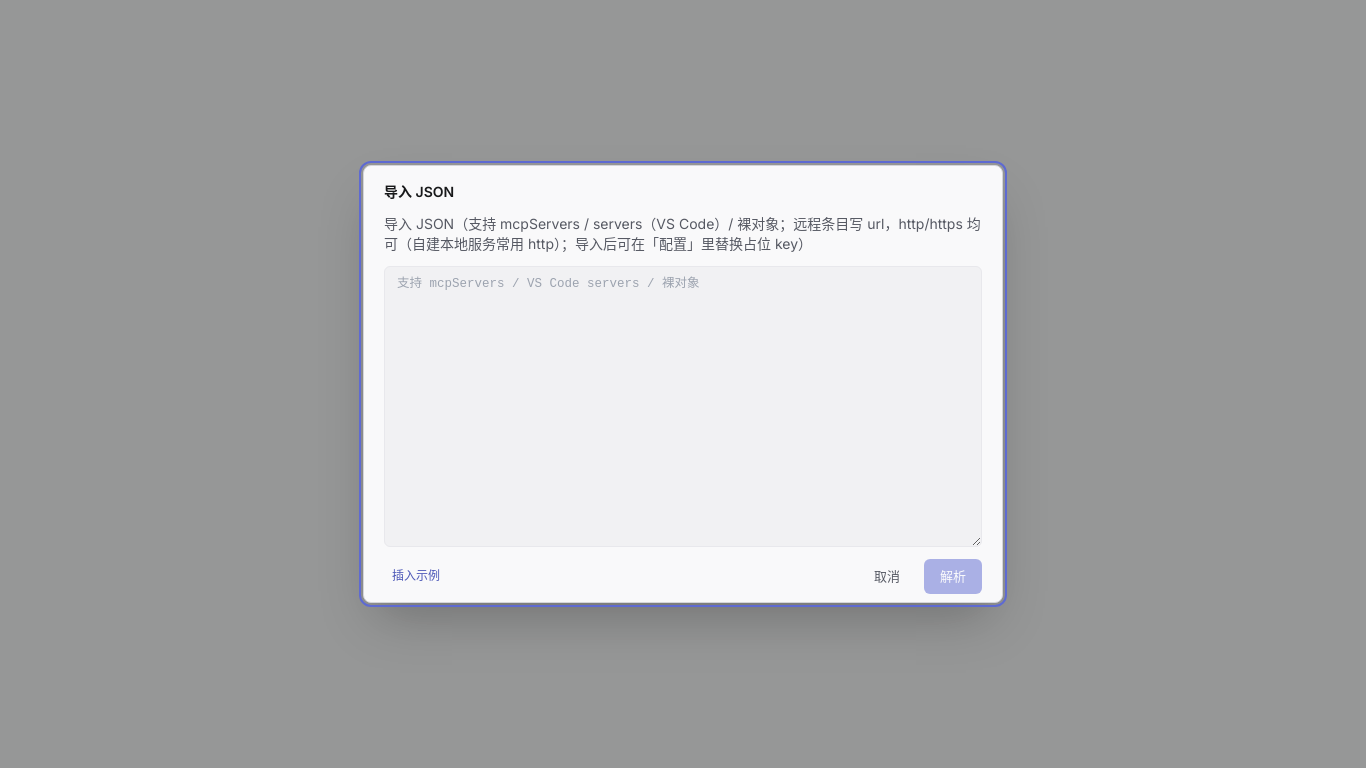
Test: McpJsonPasteDialog › 非法 JSON 解析错误内联展示且不触发注册
Type "not json" into the text box labelled "导入 JSON" at (683, 406), box [384,266,982,546]
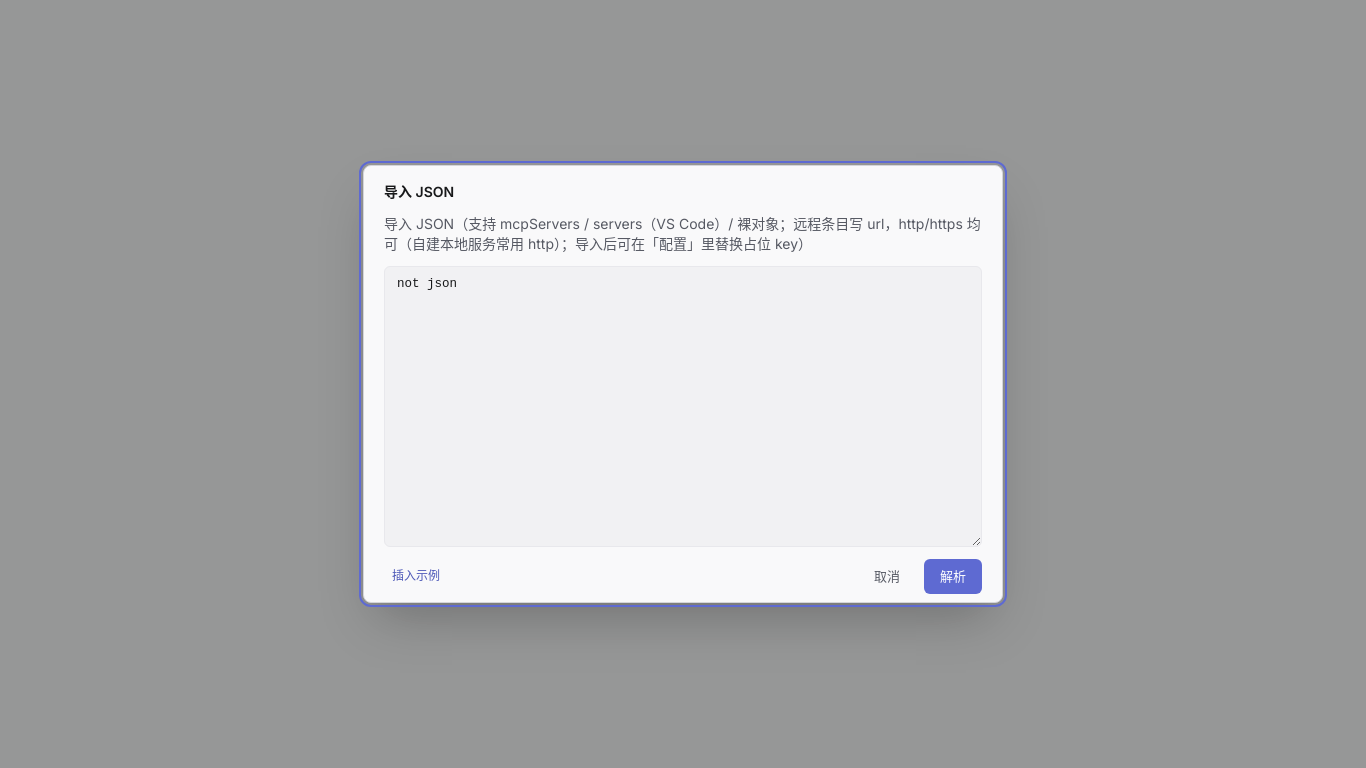
Click the button "解析" at (953, 576), box [924,558,982,594]
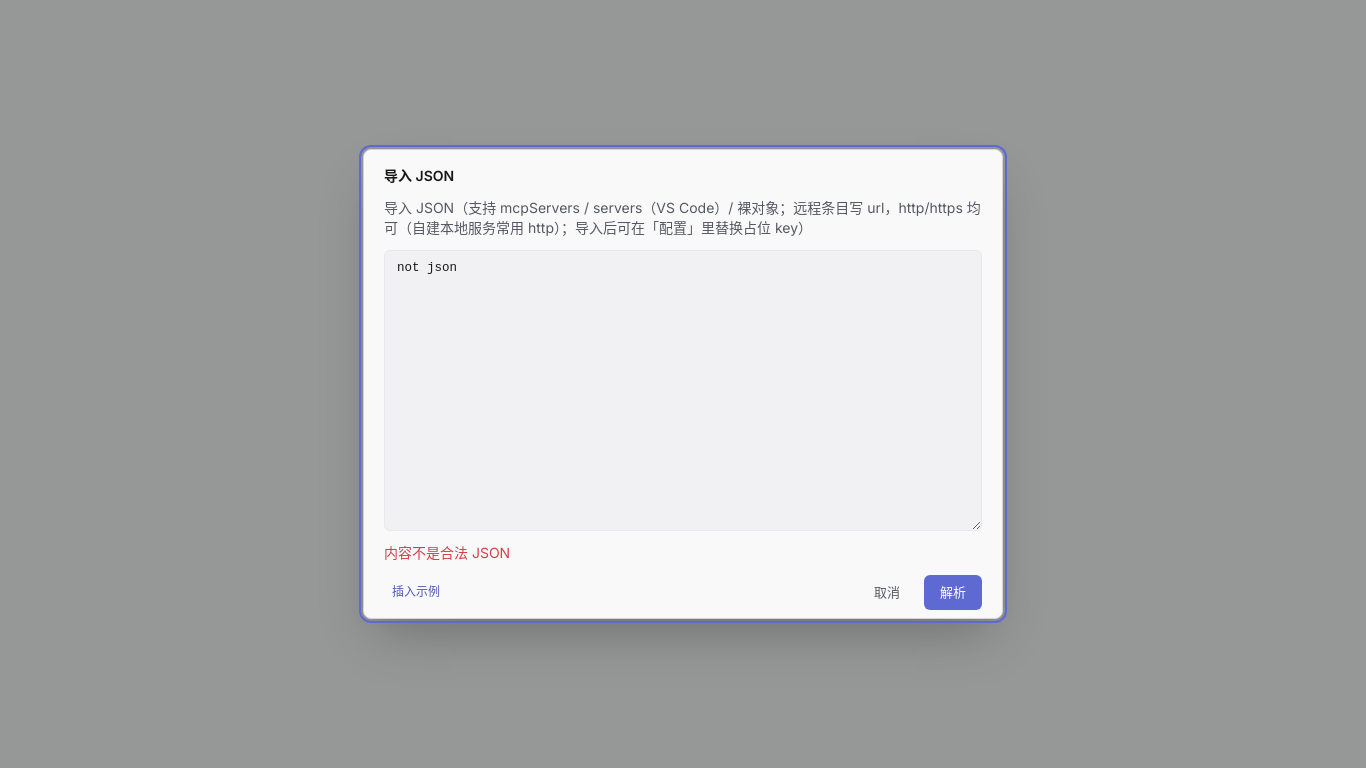
Expected: the text "内容不是合法 JSON" is shown, [384,544,510,560]
